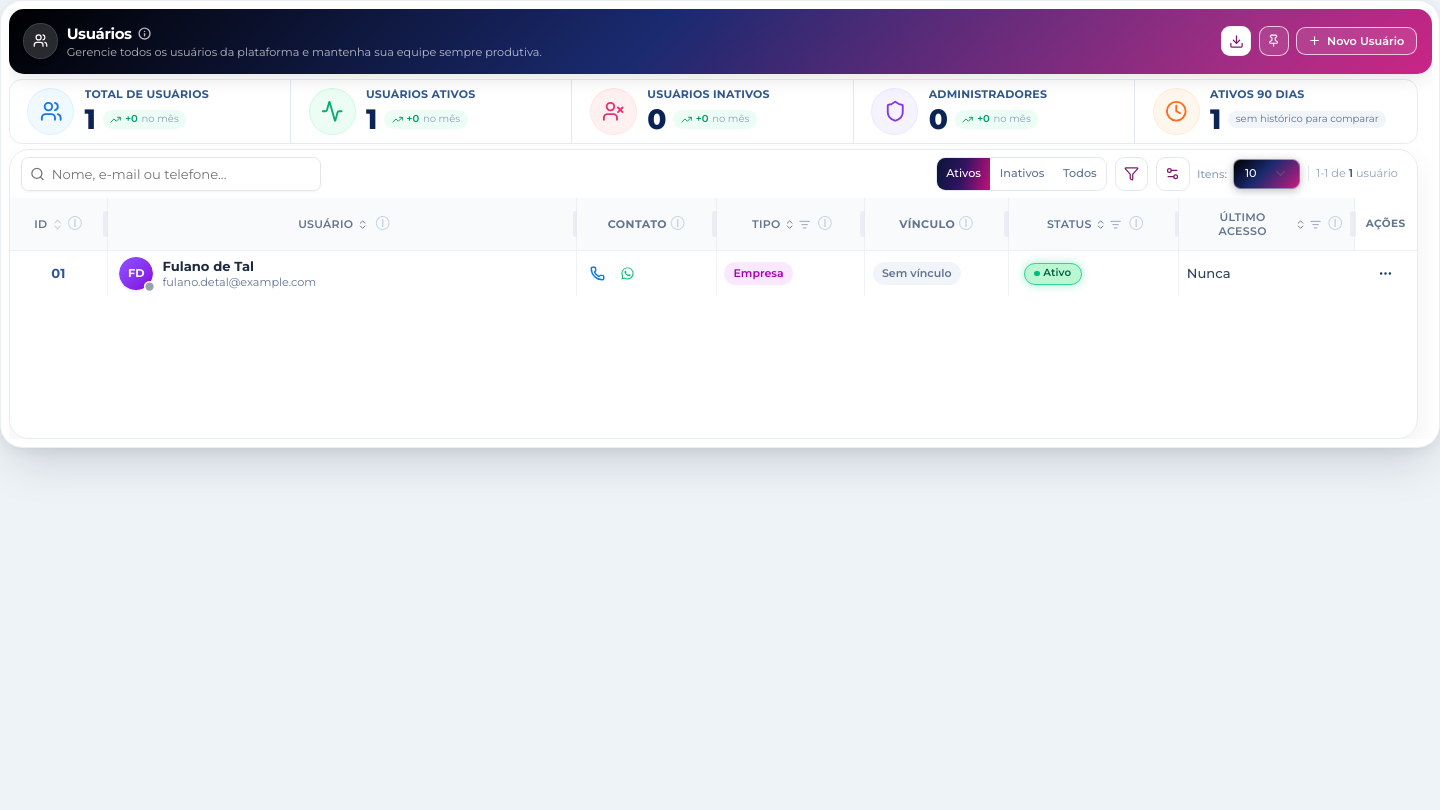
Scenario: admin/usuarios — bloquear/desbloquear (ação reversível) › 2. abrir a confirmação de bloqueio mostra nome, e-mail mascarado, tipo de conta e a consequência
Check: the text "Fulano de Tal" is shown, box [162,258,254,274]
Click the button named "Mais ações — Fulano de Tal" at (1385, 274), box [1370,259,1400,289]
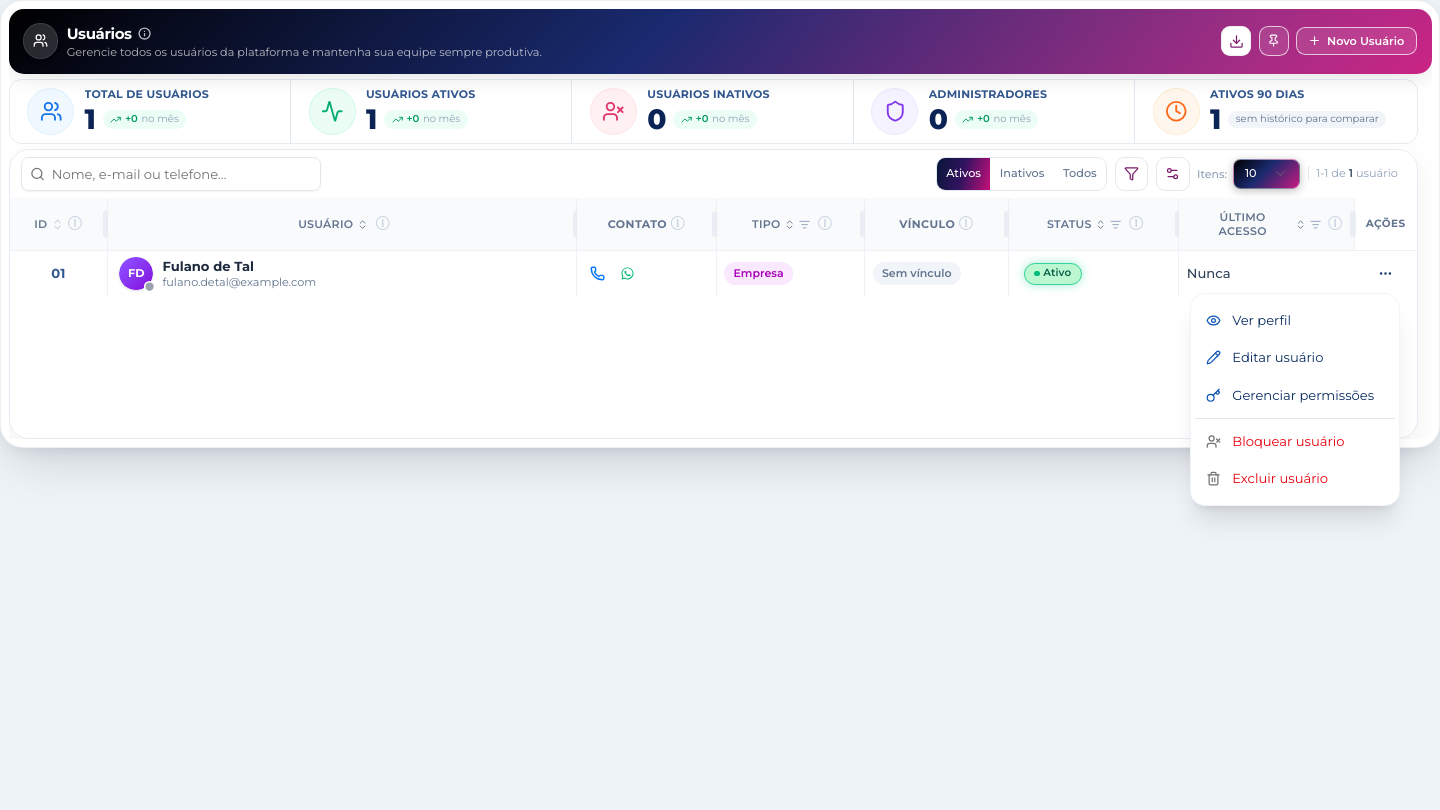
Click the menu item "Bloquear usuário" at (1275, 441), box [1206,433,1344,449]
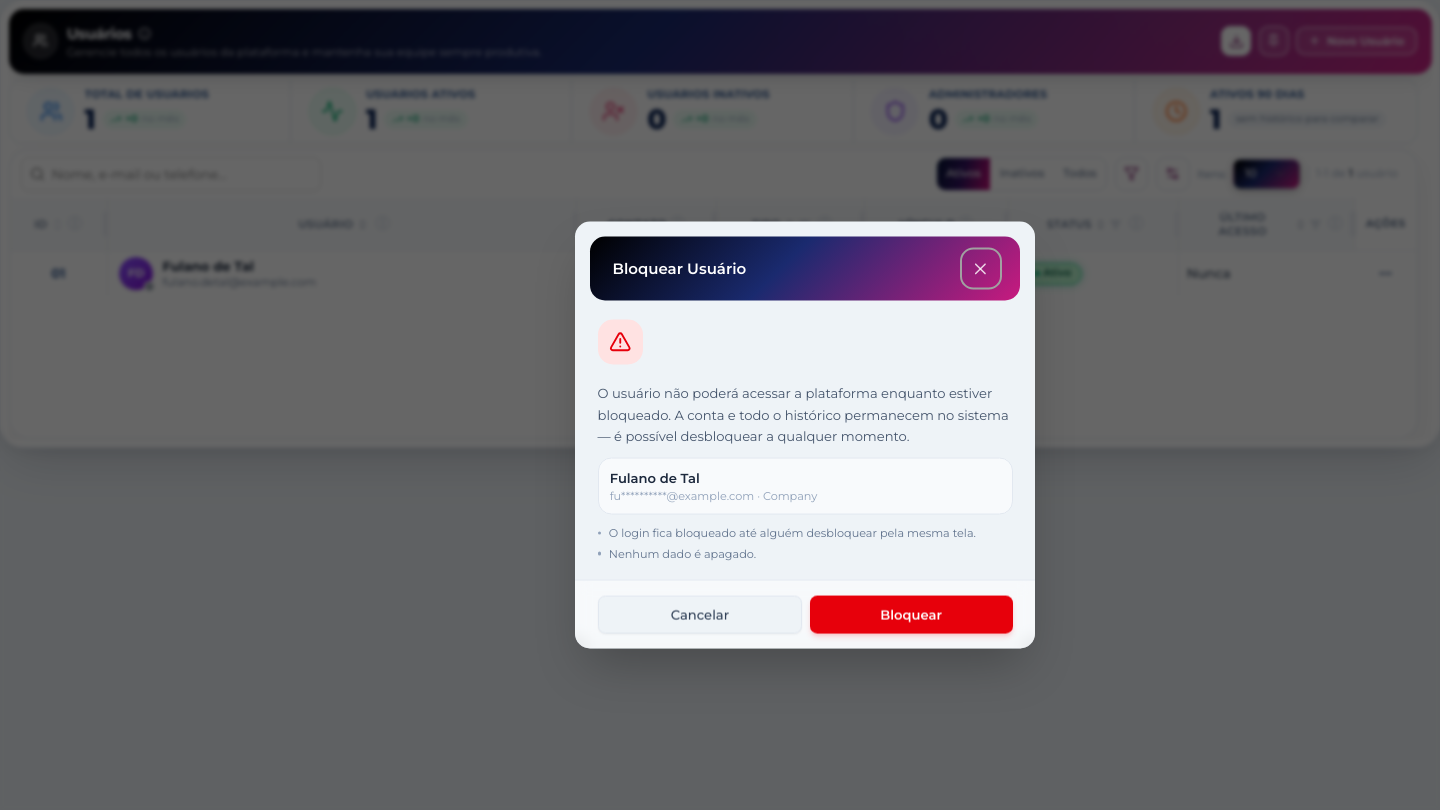
Check: the text "fu**********@example.com · Company" is shown, box [610,489,817,503]
Check: the text "Nenhum dado é apagado." is shown, box [609,546,756,561]
